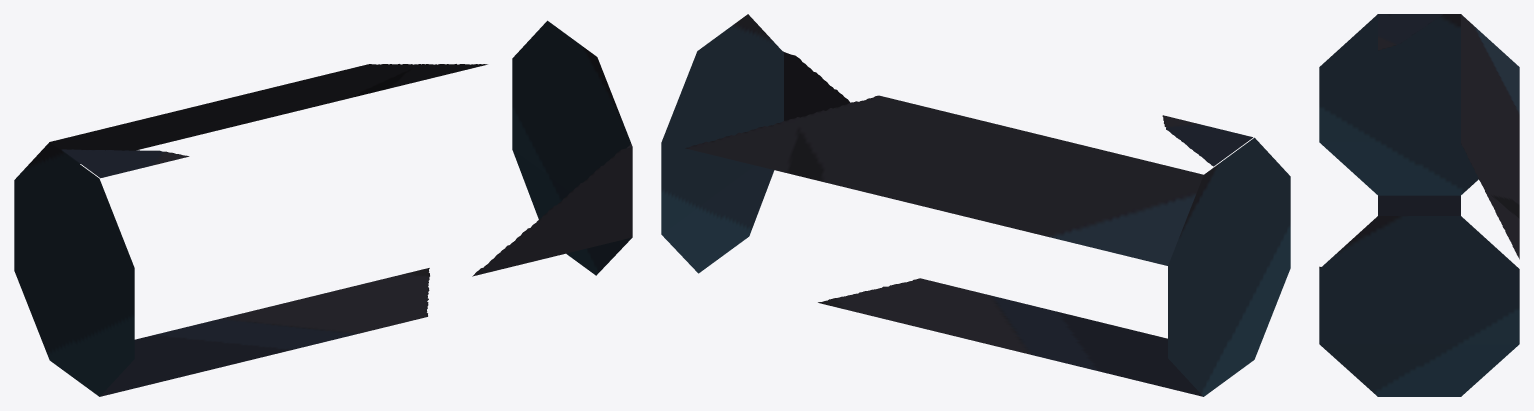
File: auxiliary_reservoir.obj
The picture shows the model from 3 angles, left to right: view 1: azimuth 30°, elevation 25°; view 2: azimuth 150°, elevation 25°; view 3: azimuth 270°, elevation 25°; orthographic projection. The views are drawn at different scales.
Parts seen in each view (by area): view 1: 副风缸1; view 2: 副风缸1; view 3: 副风缸1.
Boxes of the visible parts, <box> form: 副风缸1: <box>14,20,632,396</box>; 副风缸1: <box>661,14,1290,396</box>; 副风缸1: <box>1319,14,1519,396</box>.
Bounding box in the file's own units: 1.38 × 0.6629 × 0.5777.
